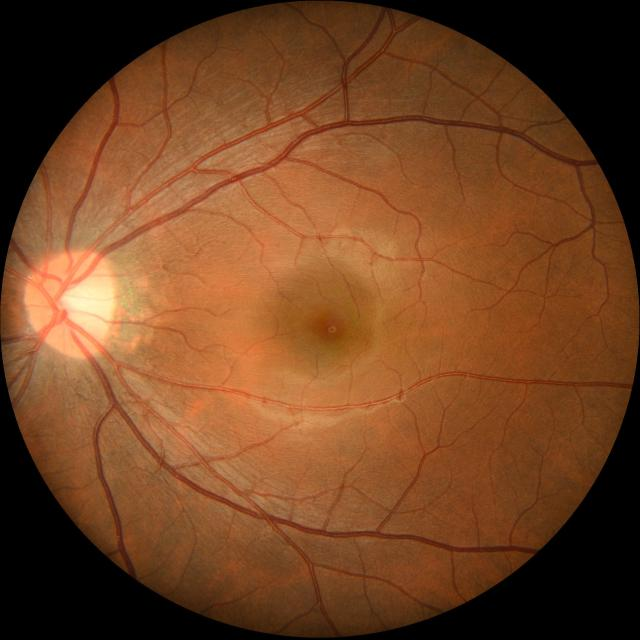OC: (60, 282, 100, 322)
OD: (24, 249, 117, 355)
